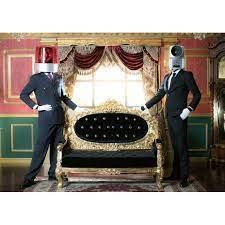no more kid: (167, 39, 188, 74)
